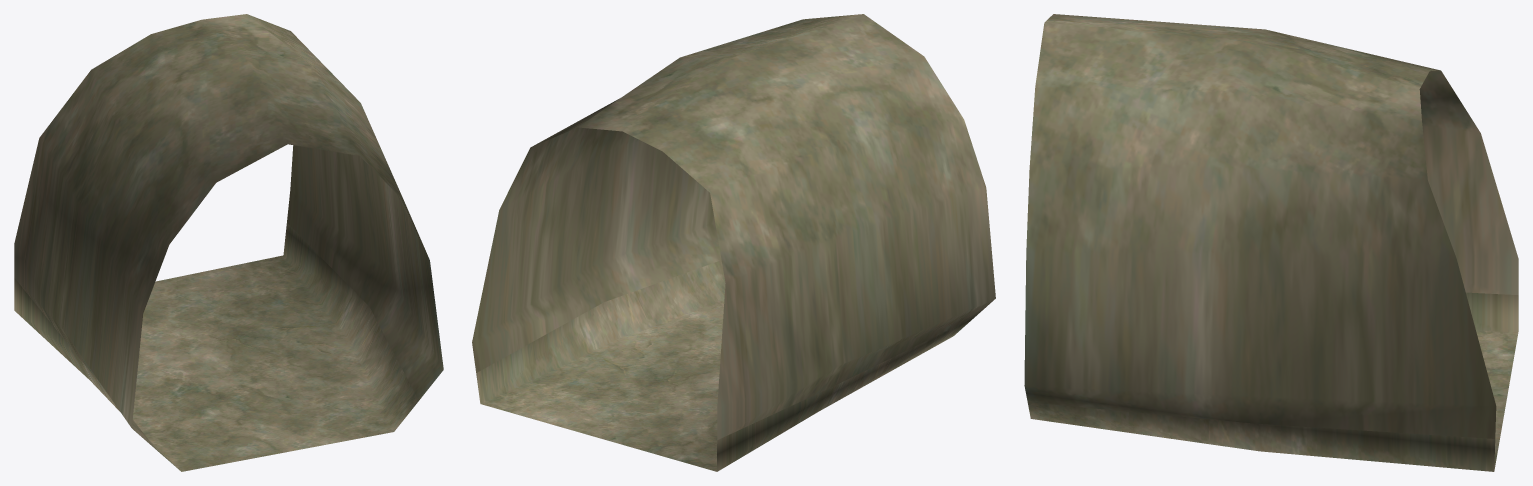
Rendered from OVERHILL_A_01_OBJECT49.fbx.
3 renders of one model, left to right at view 1: azimuth 30°, elevation 25°; view 2: azimuth 150°, elevation 25°; view 3: azimuth 270°, elevation 25°, orthographic. The views are drawn at different scales.
Parts seen in each view (by area): view 1: OVERHILL_A_01_OBJECT49; view 2: OVERHILL_A_01_OBJECT49; view 3: OVERHILL_A_01_OBJECT49.
Part boxes in pixels (x1=…): OVERHILL_A_01_OBJECT49: x1=14, y1=14, x2=443, y2=471; OVERHILL_A_01_OBJECT49: x1=472, y1=14, x2=995, y2=471; OVERHILL_A_01_OBJECT49: x1=1024, y1=14, x2=1518, y2=471.
Size of the model in its own units: 27442 by 23343 by 29941.
Materials: 1 (1 with a texture image).
